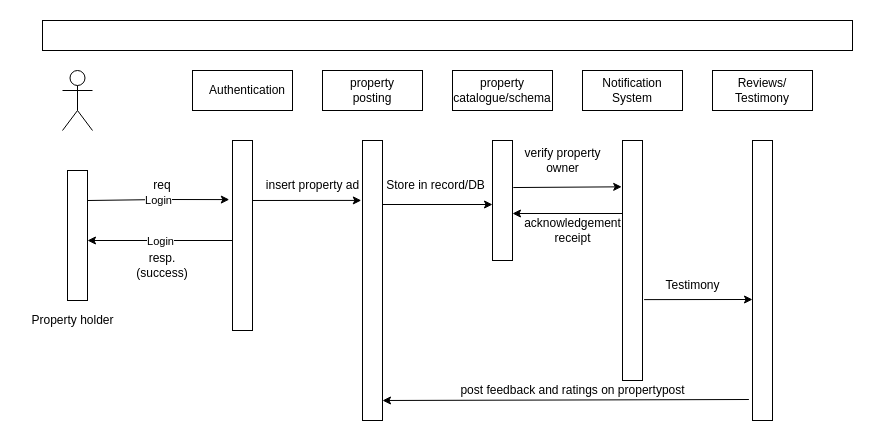
This 870x438 diagram has some shape labels left out. Each missing label, with the centre of its shape:
Actor: (77,100)
Rental Accommodation Management System: (447,35)
